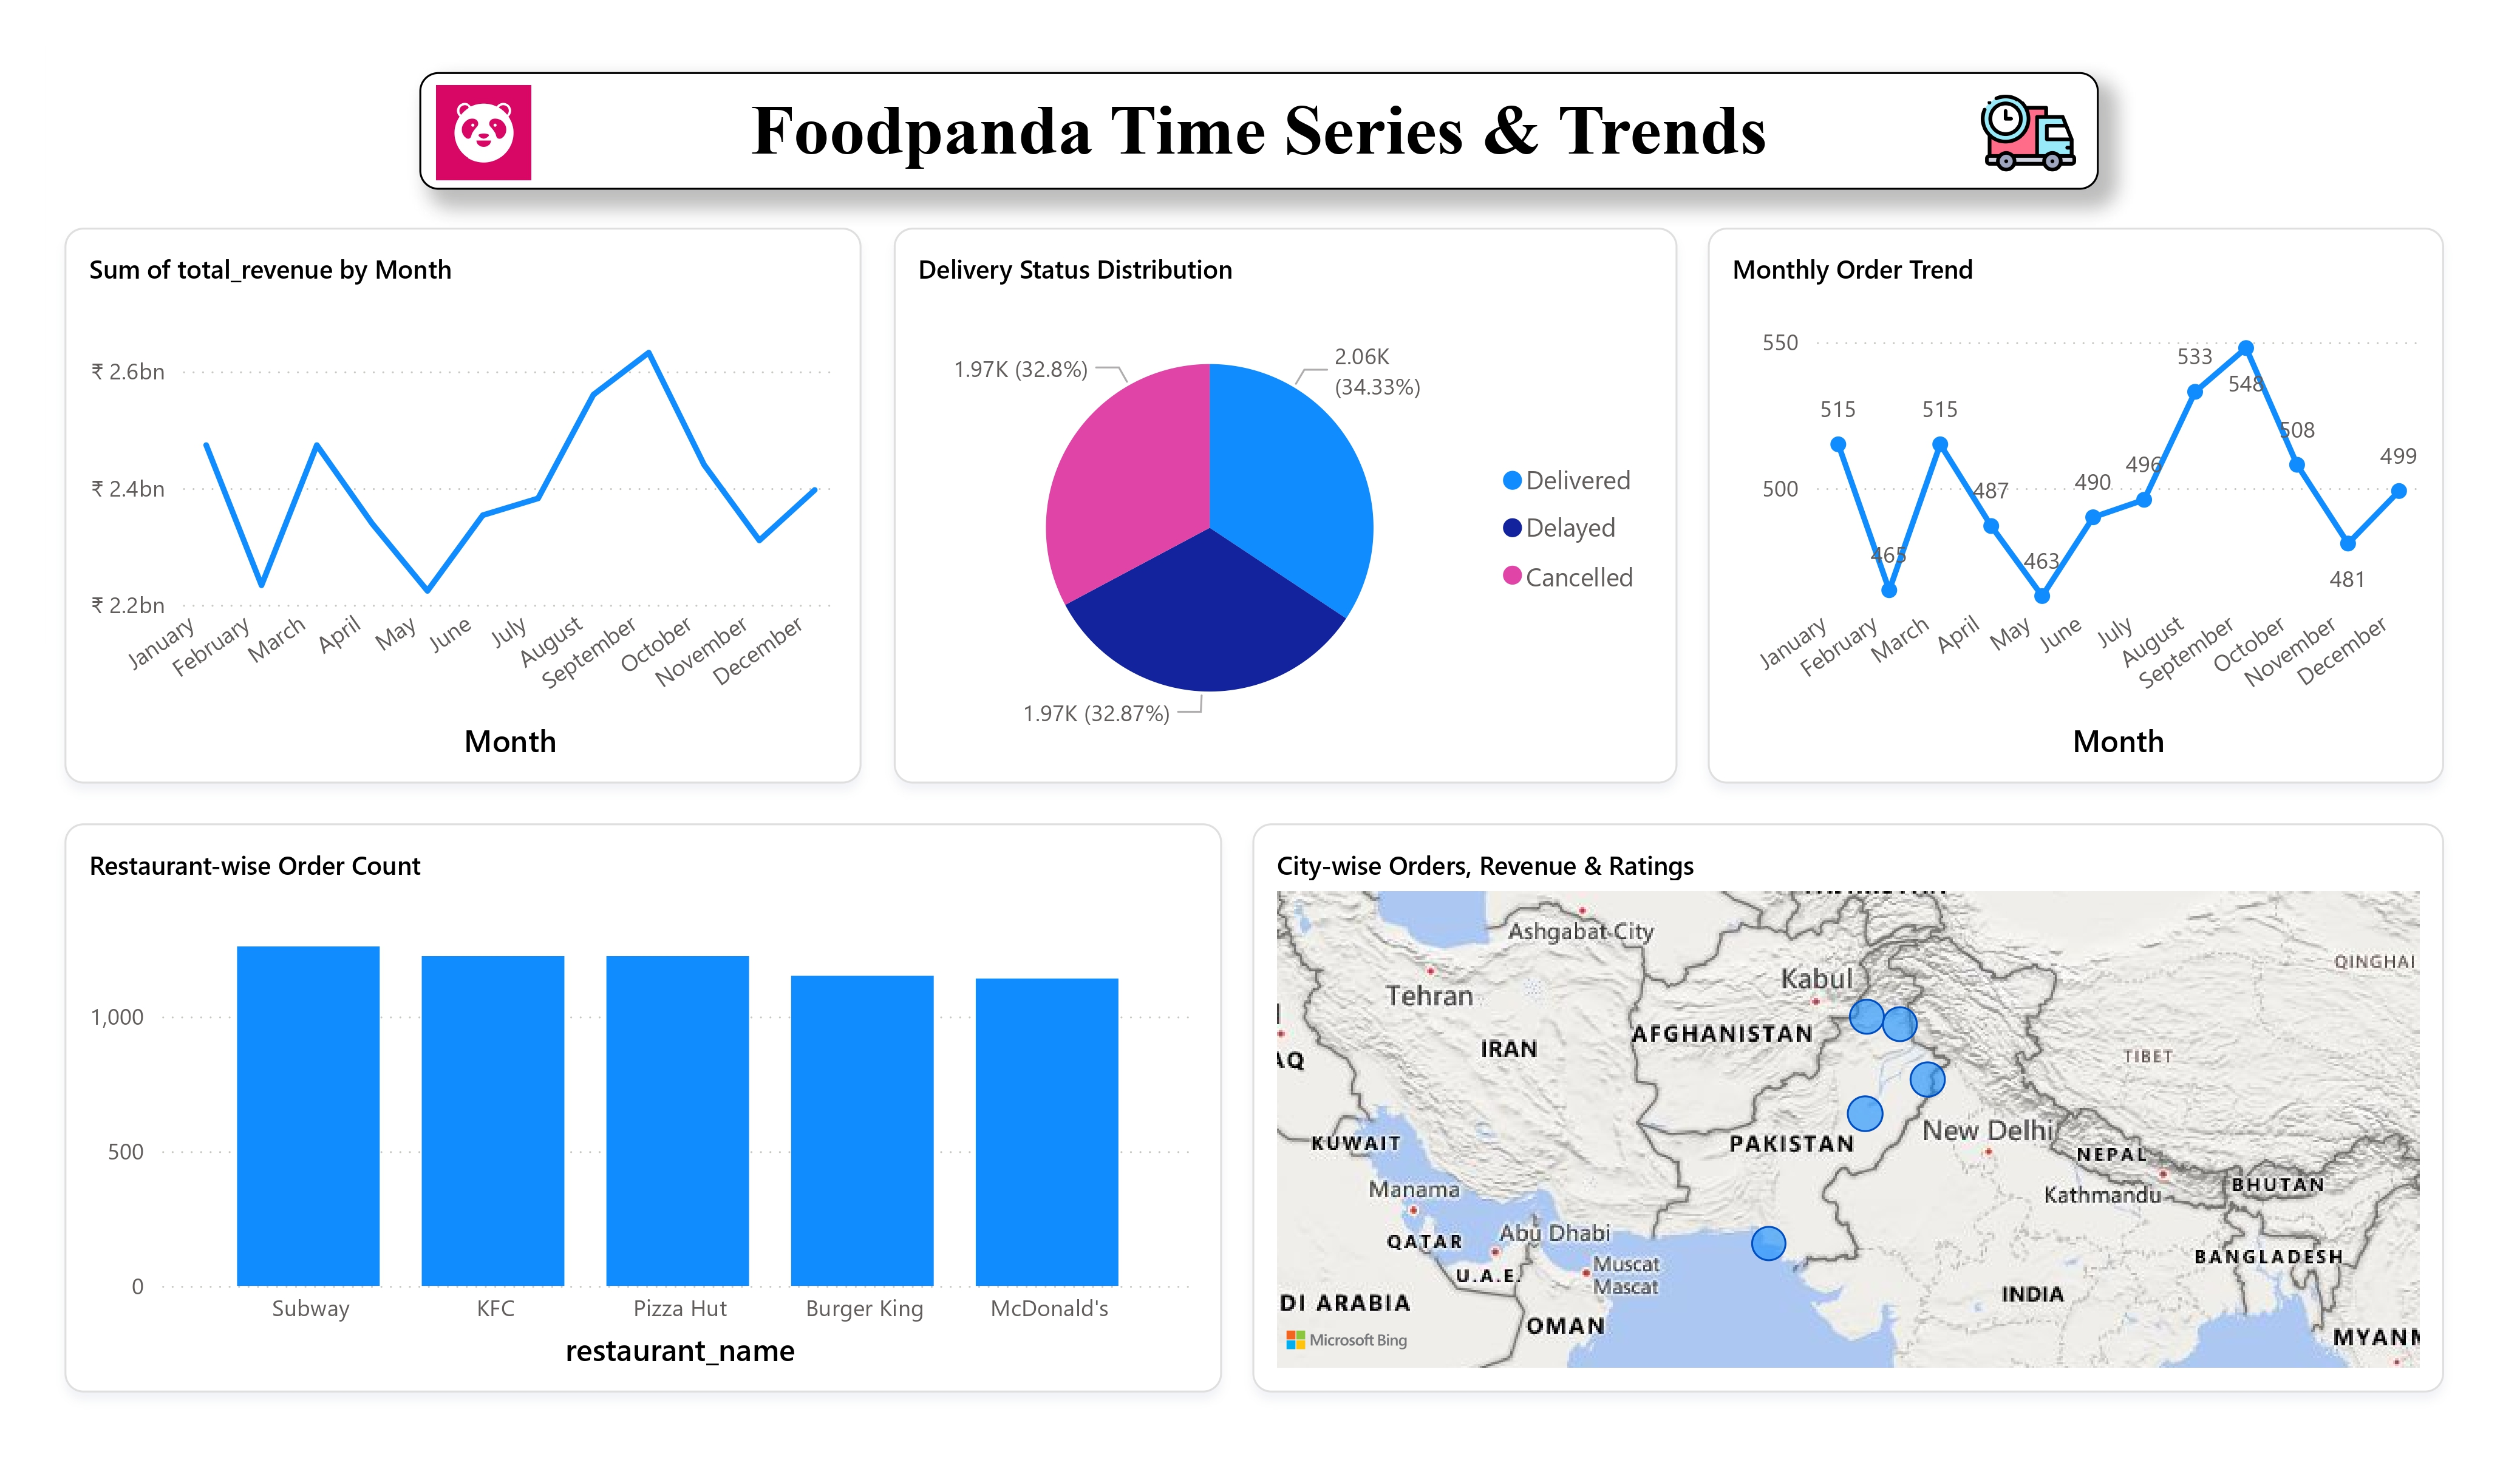

What the dashboard file says about the page in this screenshot:
{"tool":"powerbi","page":{"name":"Page 3 Time Series / Advanced Trends","canvas":[1280,720],"ordinal":2},"visuals":[{"type":"lineChart","title":"Monthly Order Trend","fields":{"Y":["CountNonNull(Foodpanda Analysis Dataset.order_id)"],"Category":["Foodpanda Analysis Dataset.order_date.Variation.Date Hierarchy.Month"]},"box":[875.7,95.7,388.6,292.9],"z":0},{"type":"clusteredColumnChart","title":"Restaurant-wise Order Count","fields":{"Y":["CountNonNull(Foodpanda Analysis Dataset.order_id)"],"Category":["Foodpanda Analysis Dataset.restaurant_name"]},"box":[10,410,610,300],"z":1000},{"type":"pieChart","title":"Delivery Status Distribution","fields":{"Y":["CountNonNull(Foodpanda Analysis Dataset.order_id)"],"Category":["Foodpanda Analysis Dataset.delivery_status"]},"box":[447.1,95.7,412.9,292.9],"z":2000},{"type":"map","title":"City-wise Orders, Revenue & Ratings","fields":{"Category":["Foodpanda Analysis Dataset.city"],"Size":["CountNonNull(Foodpanda Analysis Dataset.order_id)"]},"box":[635.7,410,628.6,300],"z":3000},{"type":"lineChart","title":"Sum of total_revenue by Month","fields":{"Category":["Foodpanda Analysis Dataset.order_date.Variation.Date Hierarchy.Month"],"Y":["Sum(Foodpanda Analysis Dataset.total_revenue)"]},"box":[10,95.7,420,292.9],"z":4000},{"type":"textbox","box":[197.1,14.3,885,62],"z":5000},{"type":"image","box":[198.6,15.7,64.3,60],"z":6000},{"type":"image","box":[1008.6,15.7,71.4,60],"z":7000}]}

Visuals, with their boxes on the page's 1280x720 design canvas (x1, y1, x2, y2). These are canvas units, not pixel positions in the 2520x1457 screenshot, which may show the page scaled, cropped or inside an application window:
"Monthly Order Trend" lineChart: BBox(876, 96, 1264, 389)
"Restaurant-wise Order Count" clusteredColumnChart: BBox(10, 410, 620, 710)
"Delivery Status Distribution" pieChart: BBox(447, 96, 860, 389)
"City-wise Orders, Revenue & Ratings" map: BBox(636, 410, 1264, 710)
"Sum of total_revenue by Month" lineChart: BBox(10, 96, 430, 389)
textbox: BBox(197, 14, 1082, 76)
image: BBox(199, 16, 263, 76)
image: BBox(1009, 16, 1080, 76)
